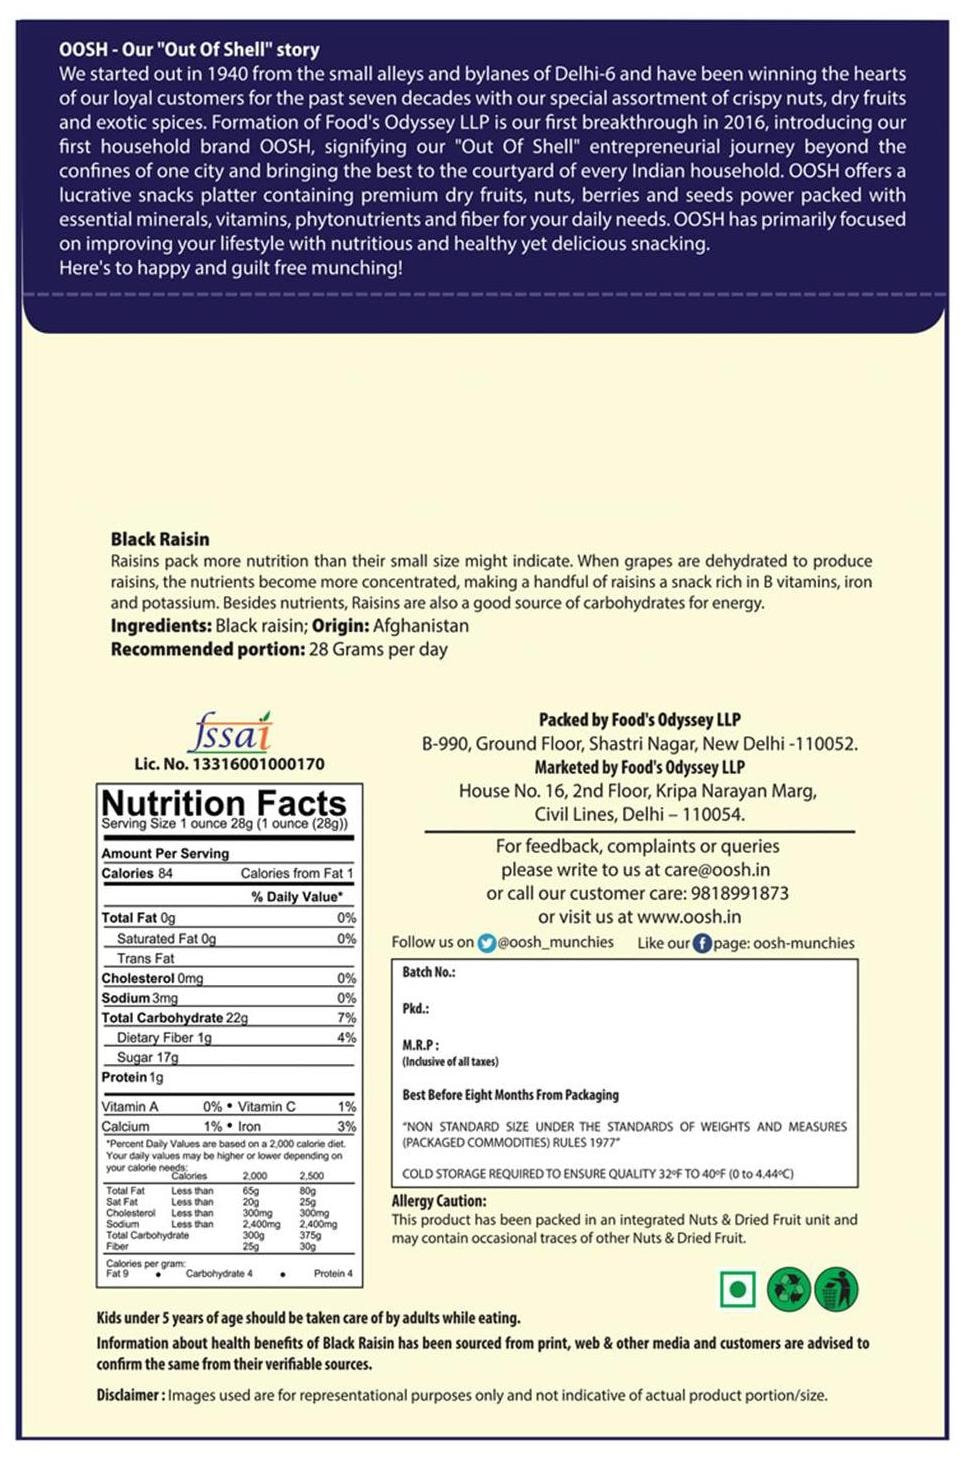fssai: (186, 709, 274, 756)
